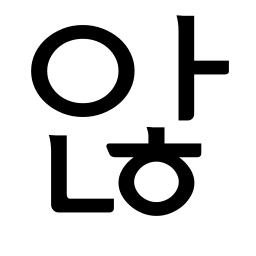Gaji: (165, 47, 215, 89)
